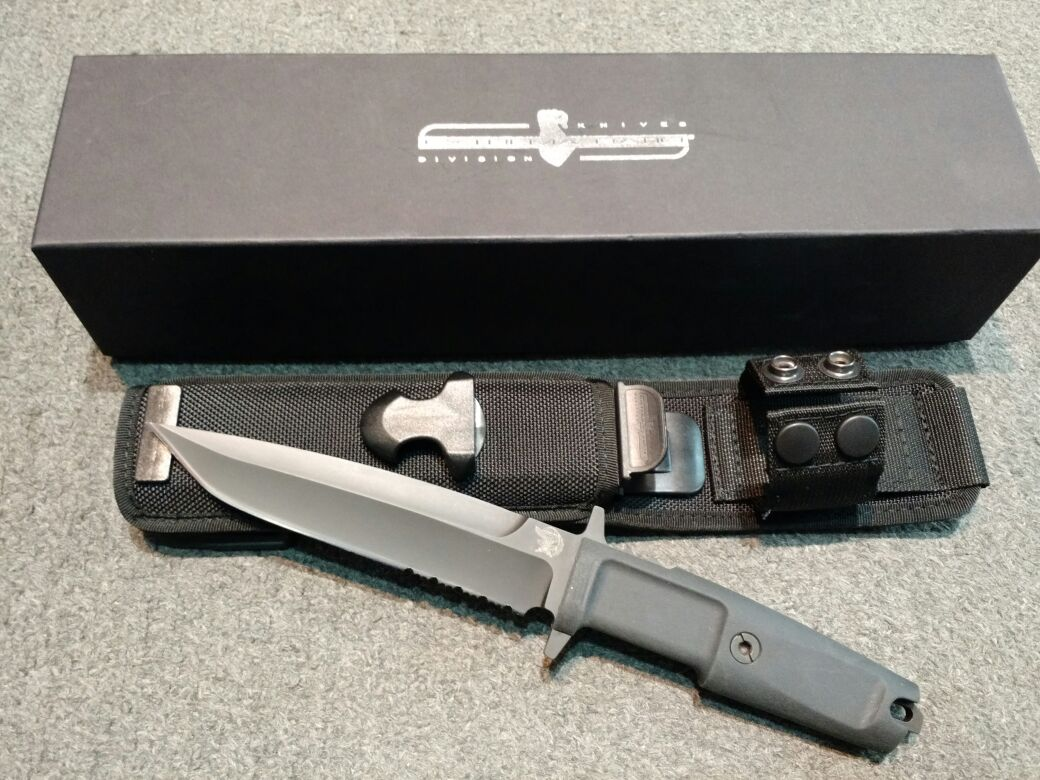knife: (124, 403, 633, 678)
